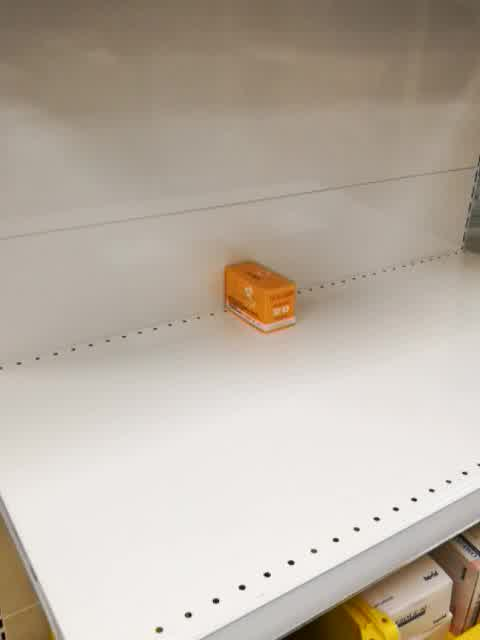jasminetea: (221, 260, 298, 335)
